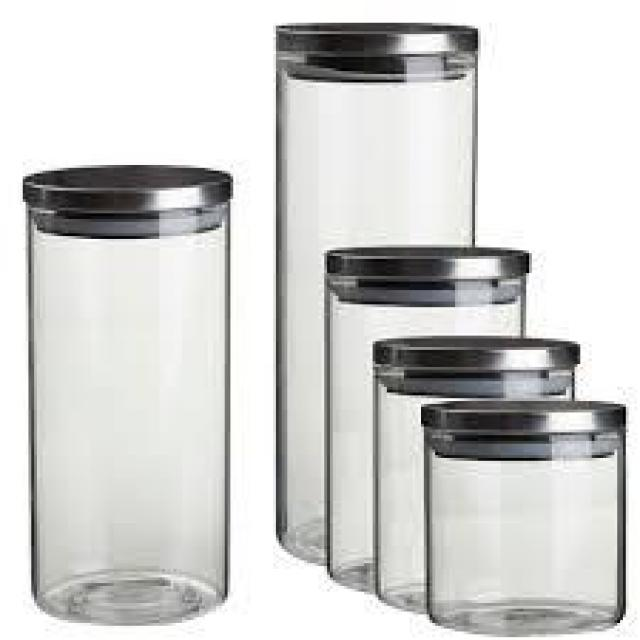non-organic waste: (20, 162, 242, 629), (420, 397, 630, 636)
